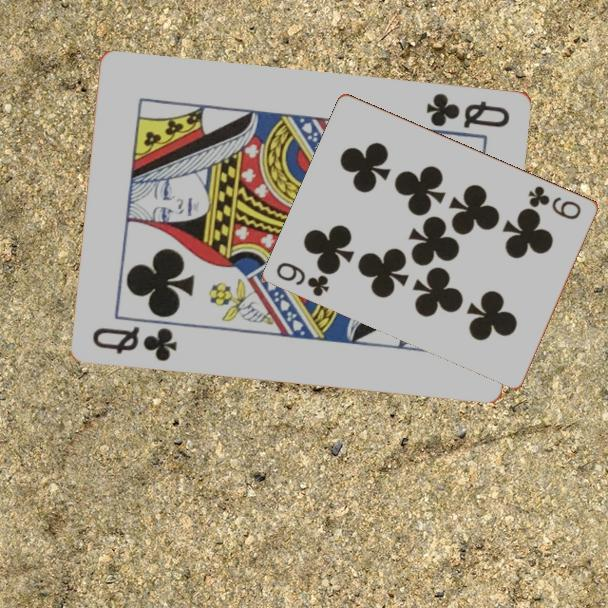c09: (273, 258, 333, 299), (525, 182, 584, 222)
c12: (89, 322, 180, 364), (423, 89, 513, 131)
